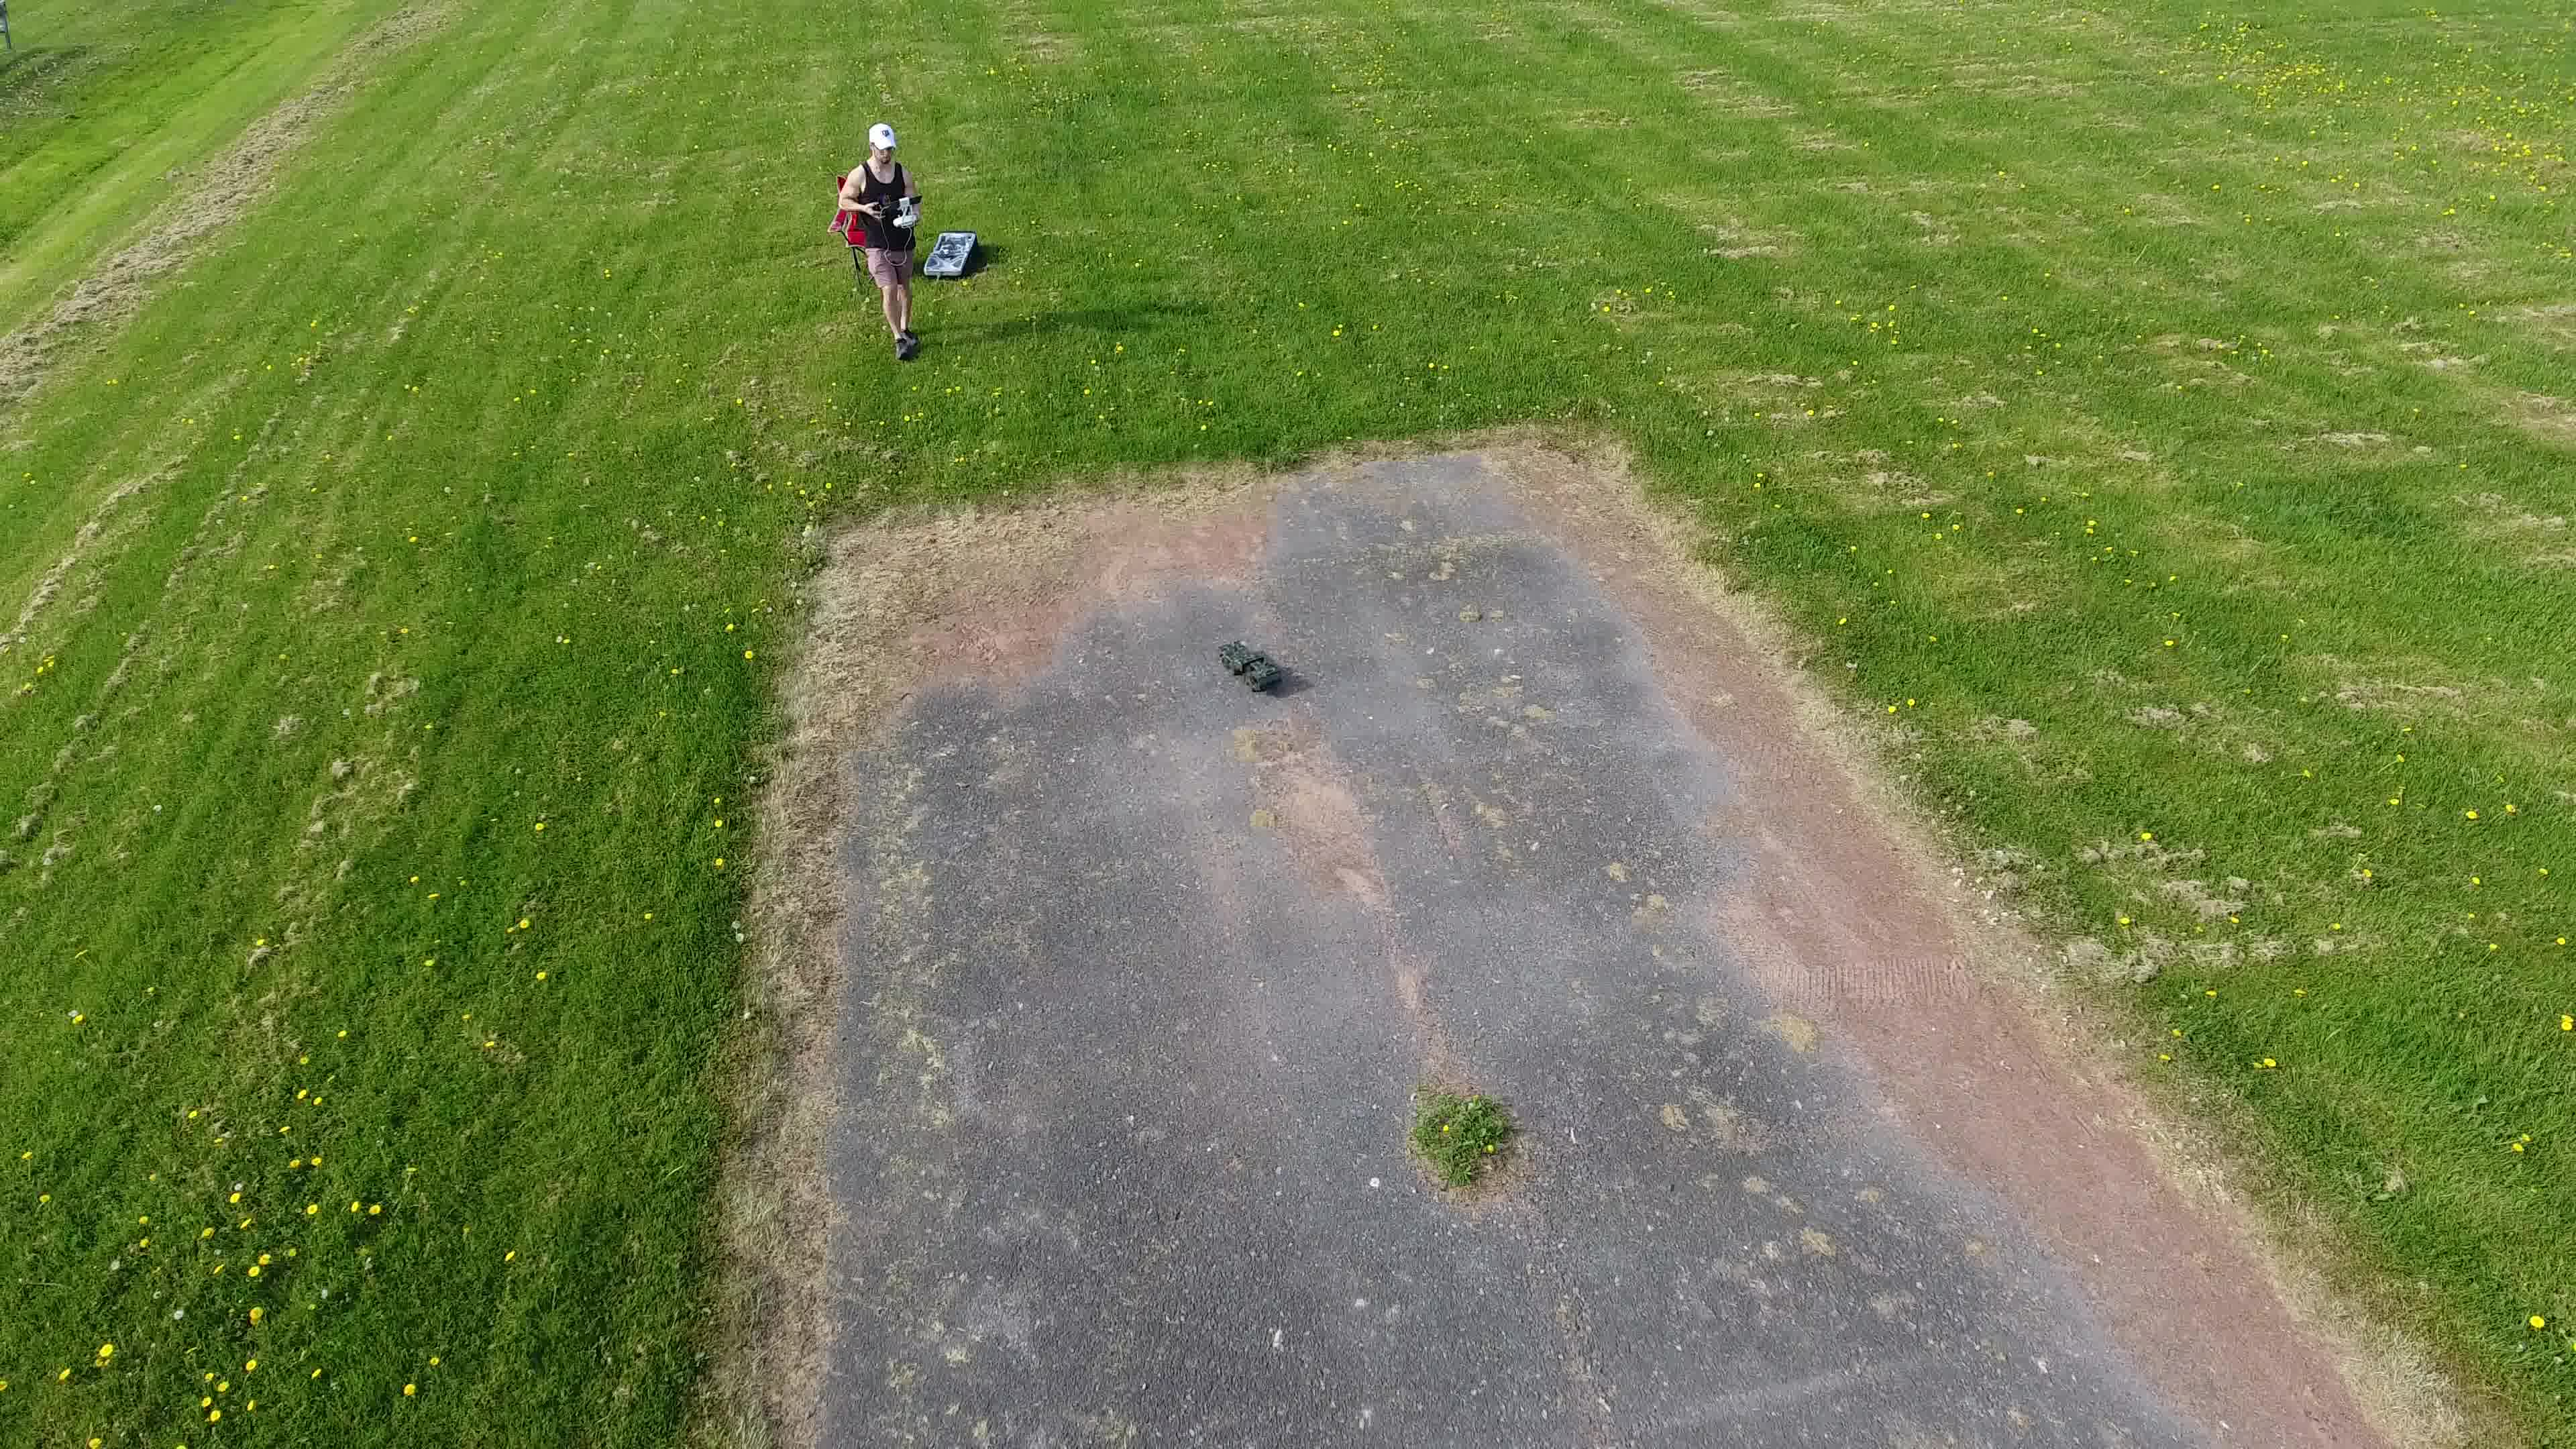transporter9_camo: (1215, 637, 1284, 697)
